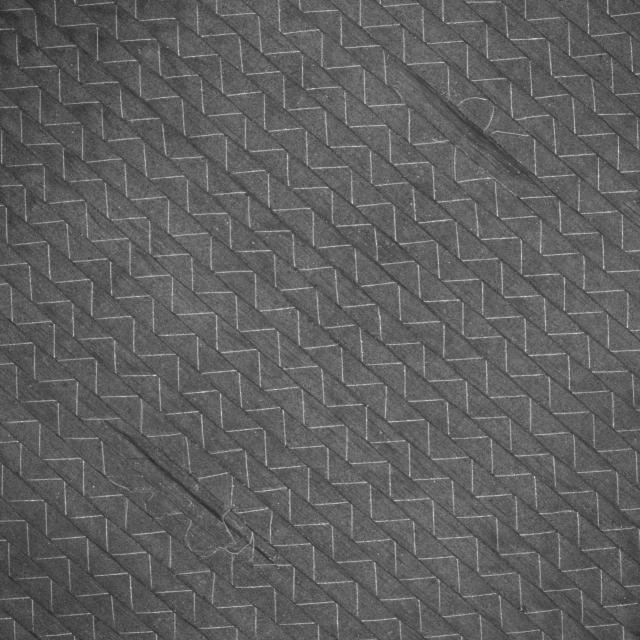carbon-fibre-defect: (91, 412, 290, 584), (372, 55, 548, 206)
